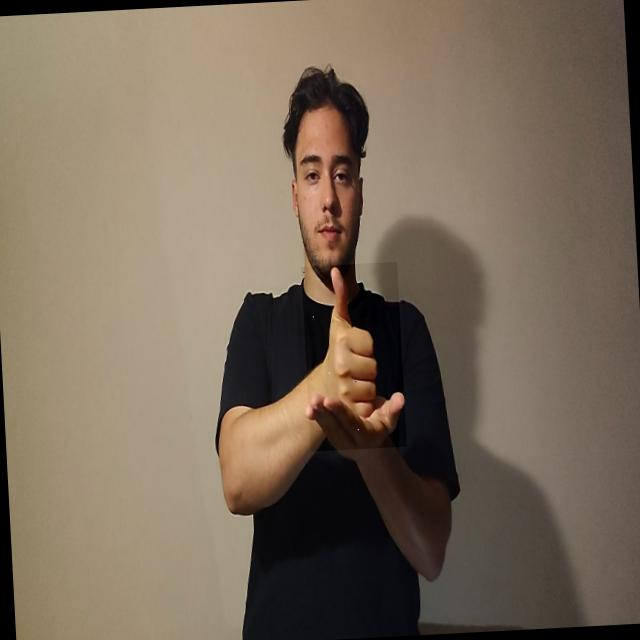help: (301, 262, 407, 452)
